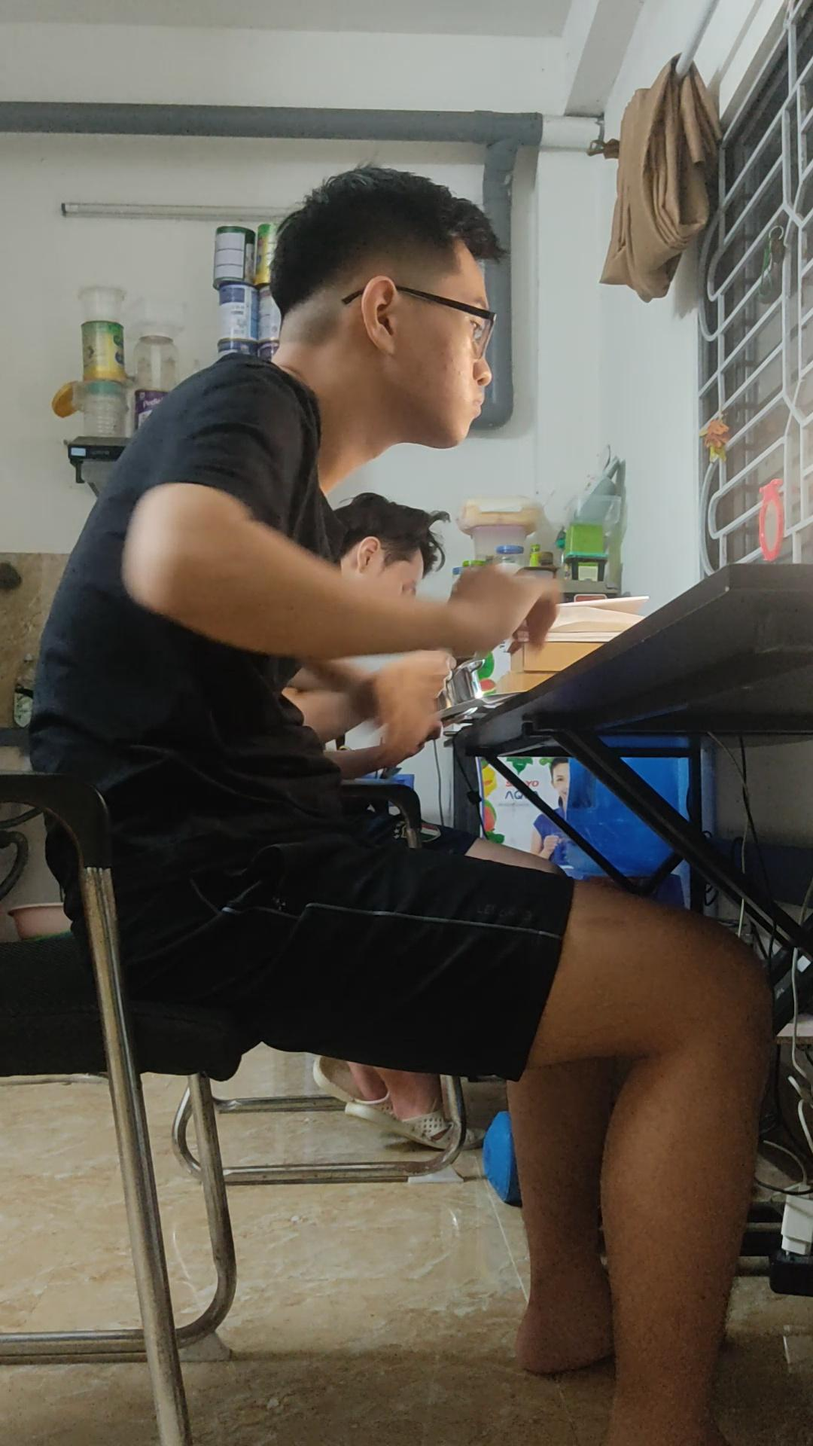BadPosture: (34, 167, 770, 1445)
